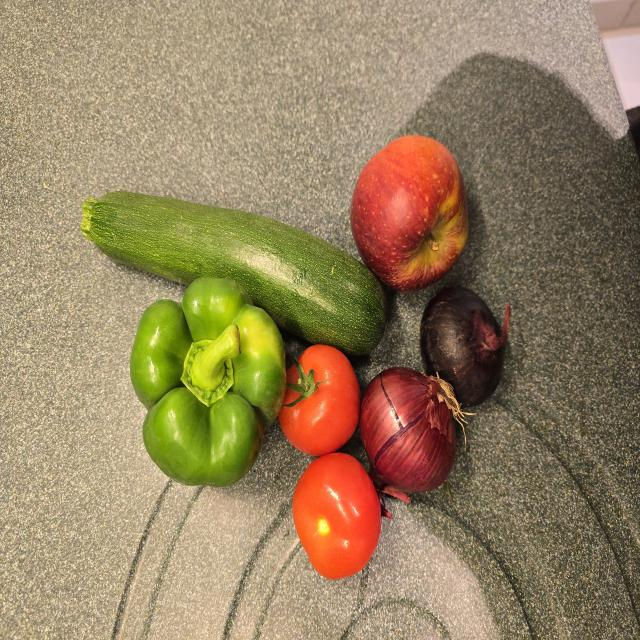Apple: (351, 136, 468, 291)
Bell Pepper: (128, 273, 289, 487)
Courgette: (81, 191, 387, 355)
Onion: (360, 368, 456, 493), (420, 286, 509, 406)
Tomato: (293, 453, 381, 579), (278, 345, 360, 456)
